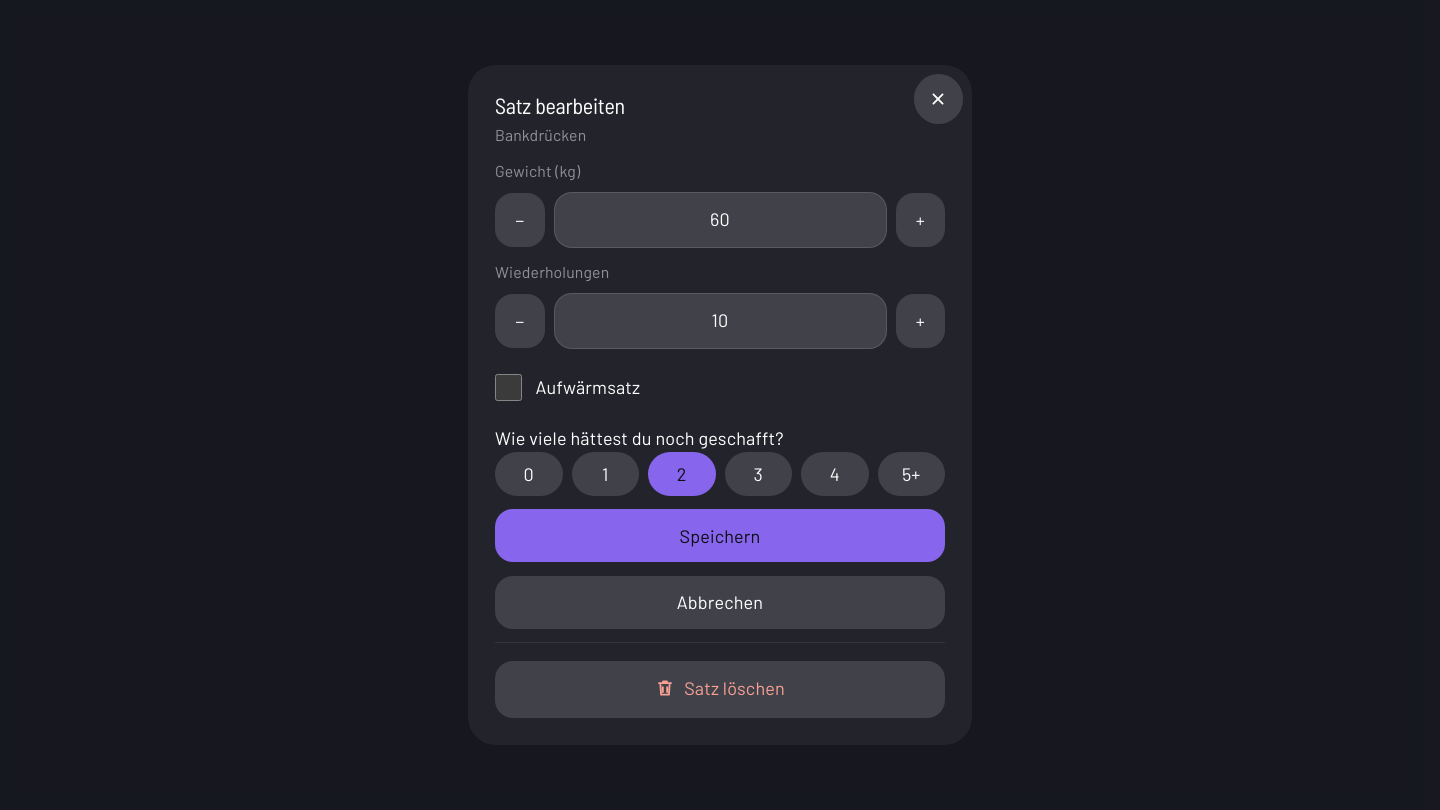
Test: SetEditDialog › keeps the dialog open and shows the failure when deleting fails
Click the button "Satz löschen": (720, 689) 495,661 -> 945,718
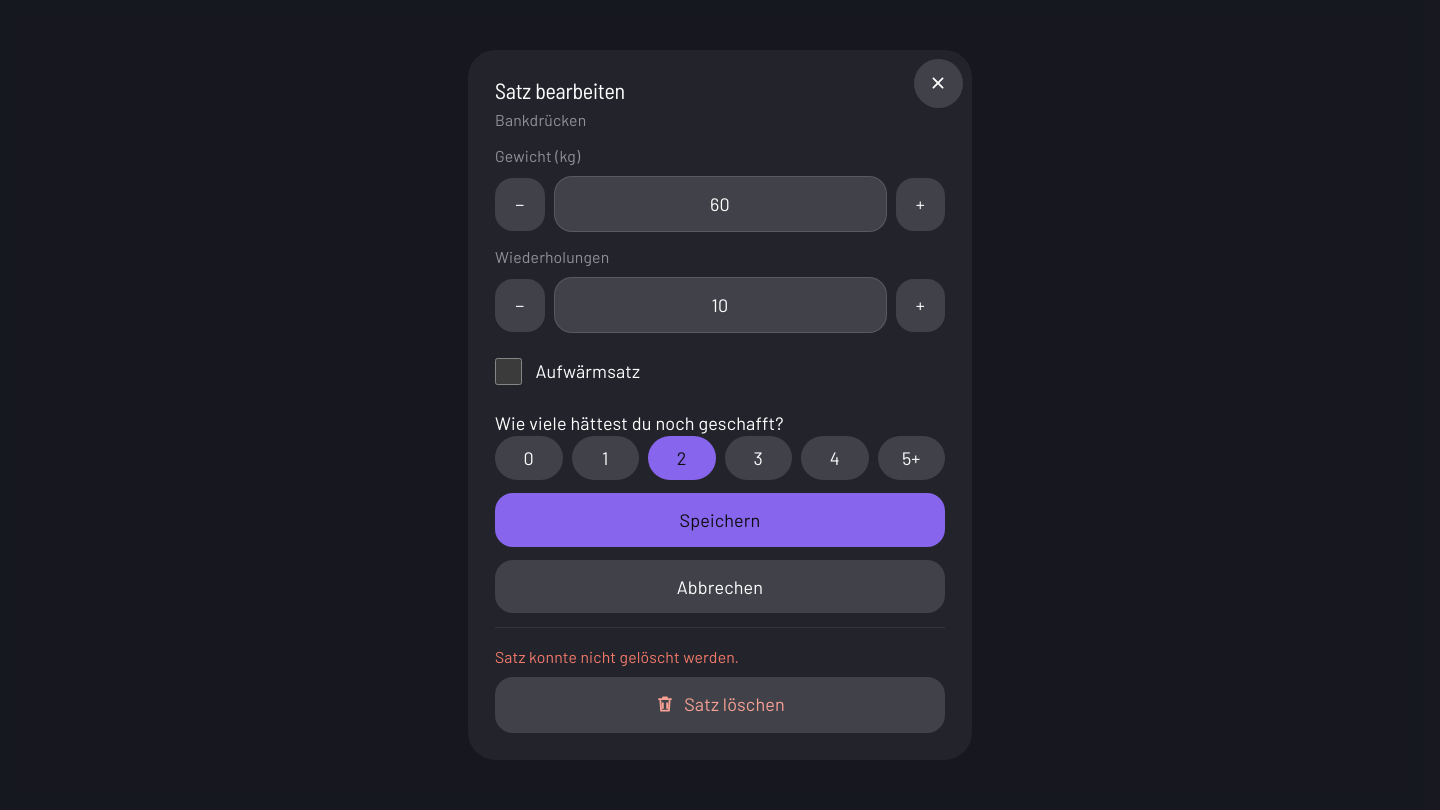
Check: the message reads "Satz konnte nicht gelöscht werden.", box 495,647 -> 739,666
